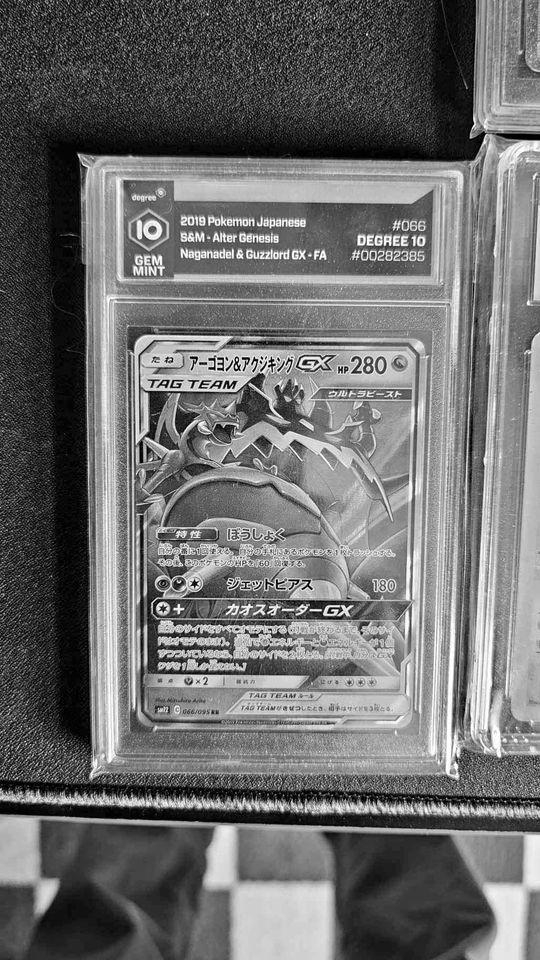card: (131, 334, 428, 731)
